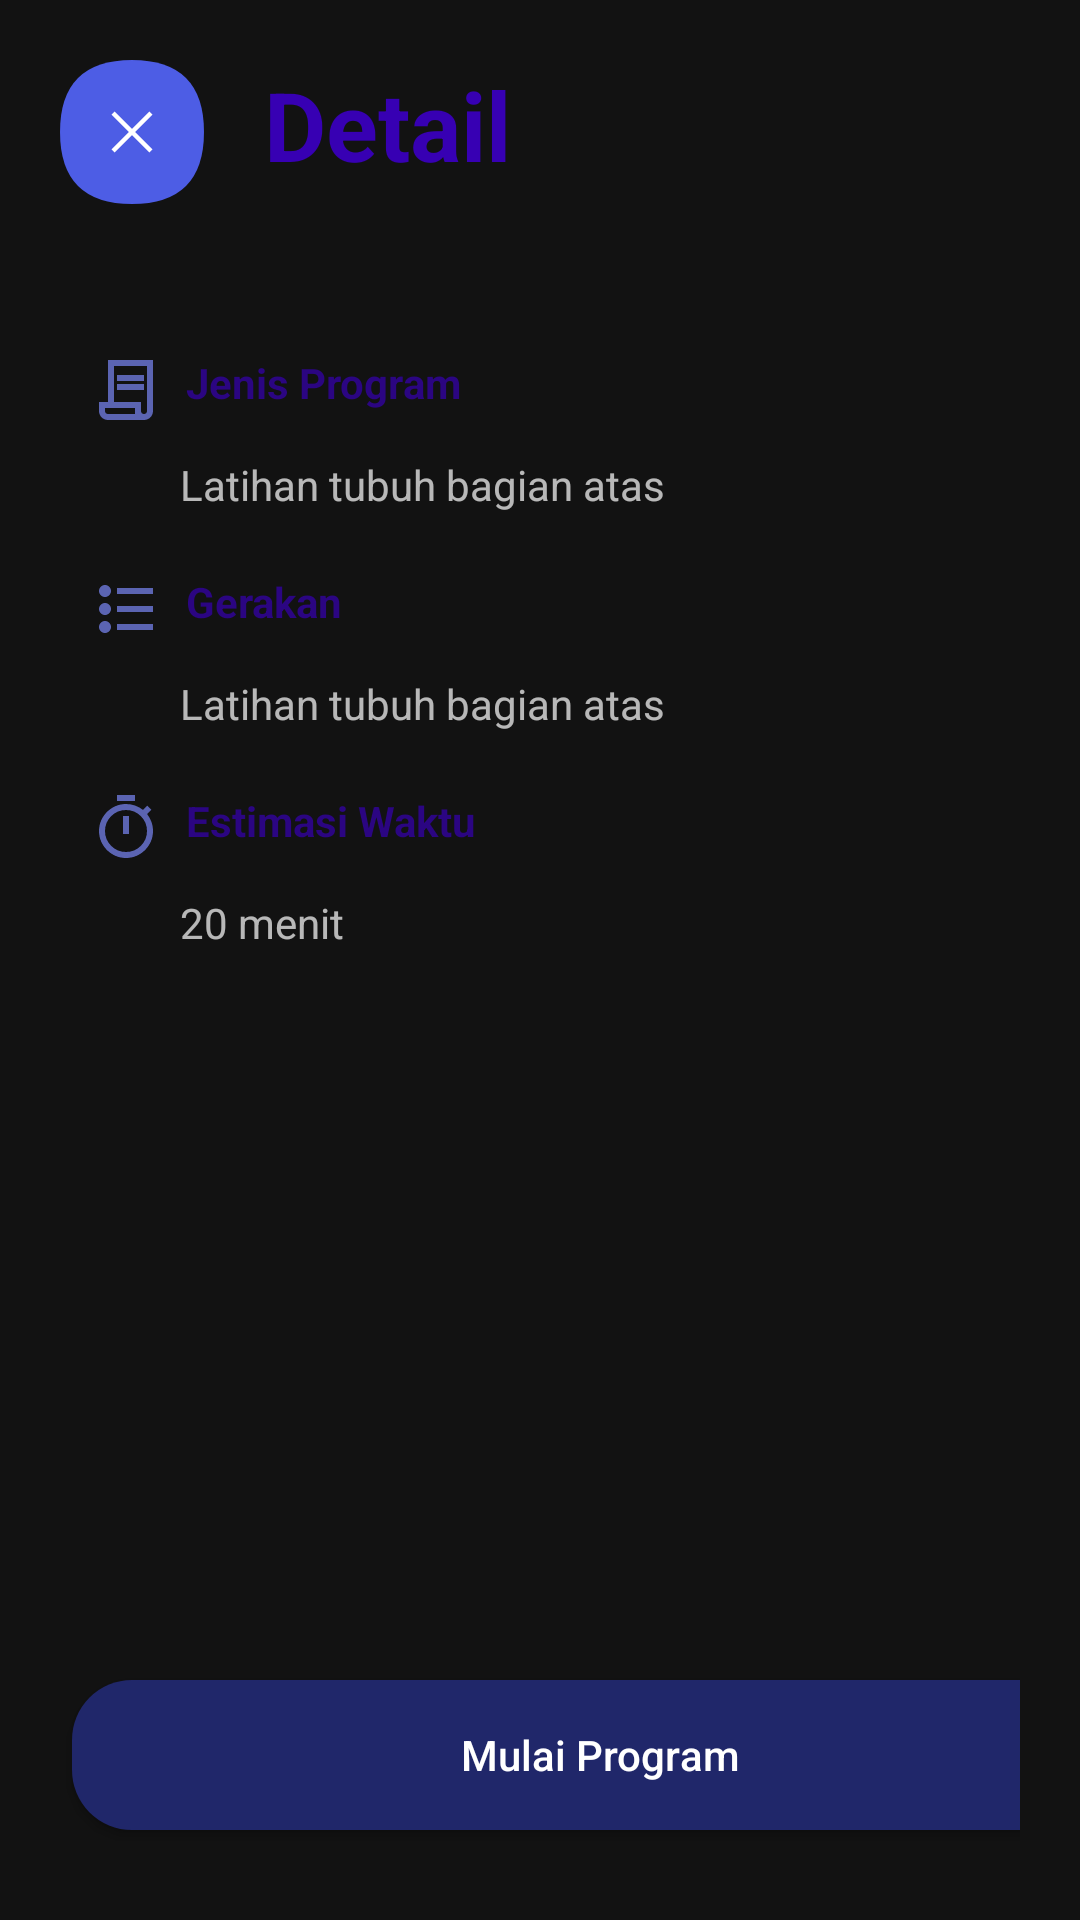

Screen size 1080x1920. Icon name, then its box in pixels as (x1, y1, x2, y2):
cancelbutton: (60, 60, 204, 204)
